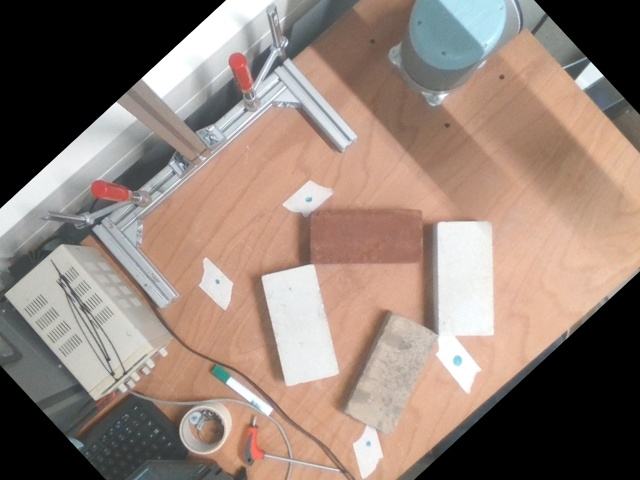brick: (346, 314, 441, 439), (261, 263, 341, 386), (437, 222, 492, 335), (312, 211, 420, 262)
